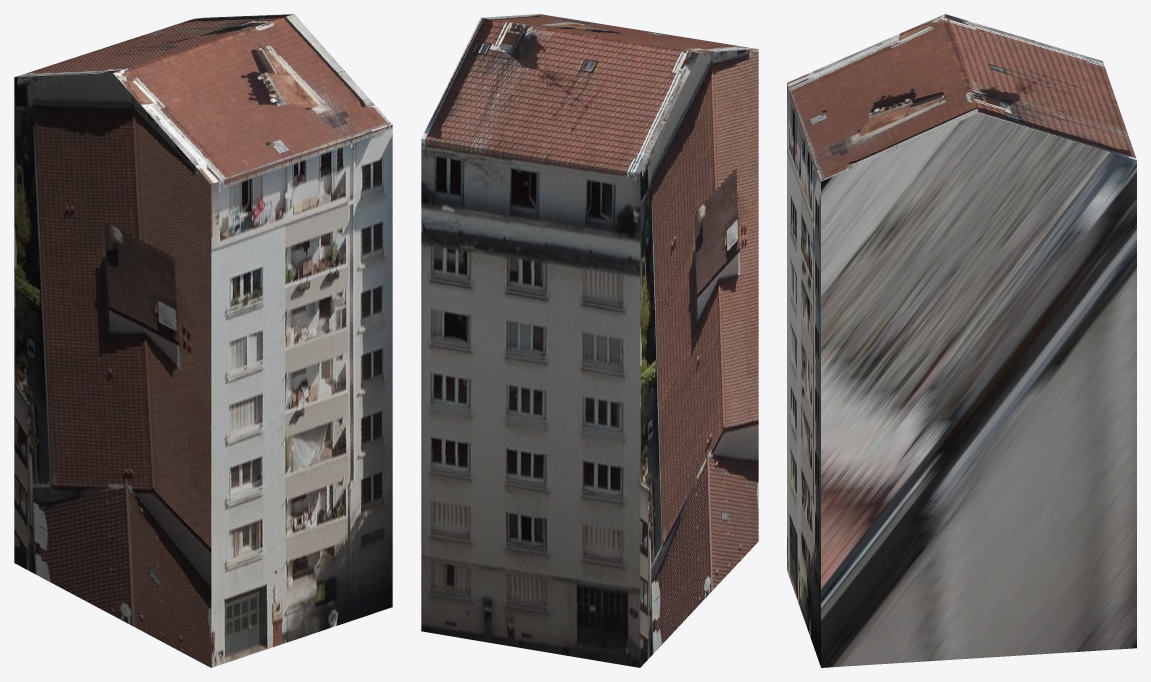
3 renders of one model, left to right at view 1: azimuth 30°, elevation 25°; view 2: azimuth 150°, elevation 25°; view 3: azimuth 270°, elevation 25°, orthographic.
Visible parts, largest first — view 1: Z_UP; view 2: Z_UP; view 3: Z_UP.
Part boxes in pixels (<box>): Z_UP: <box>14,14,392,667</box>; Z_UP: <box>421,14,758,667</box>; Z_UP: <box>787,14,1136,667</box>.
Bounding box in the file's own units: 12.19 × 26.49 × 15.37.
Materials: 2 (1 with a texture image).
